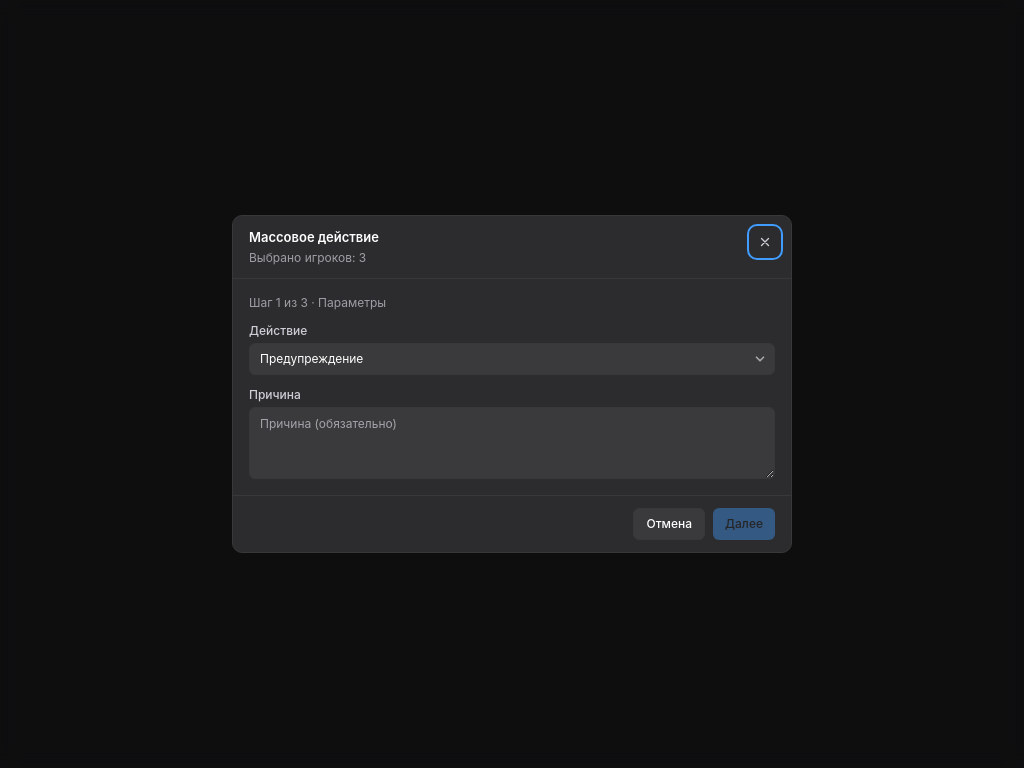
Scenario: BulkModerationModal › names the current step so the three screens do not blur into one
The width and height of the screenshot is (1024, 768).
Expected: the text "Шаг 1 из 3 · Параметры" is shown, 249,295 -> 386,310
Type "Читы" into the text box labelled "Причина" at [512, 443], box 249,407 -> 775,479
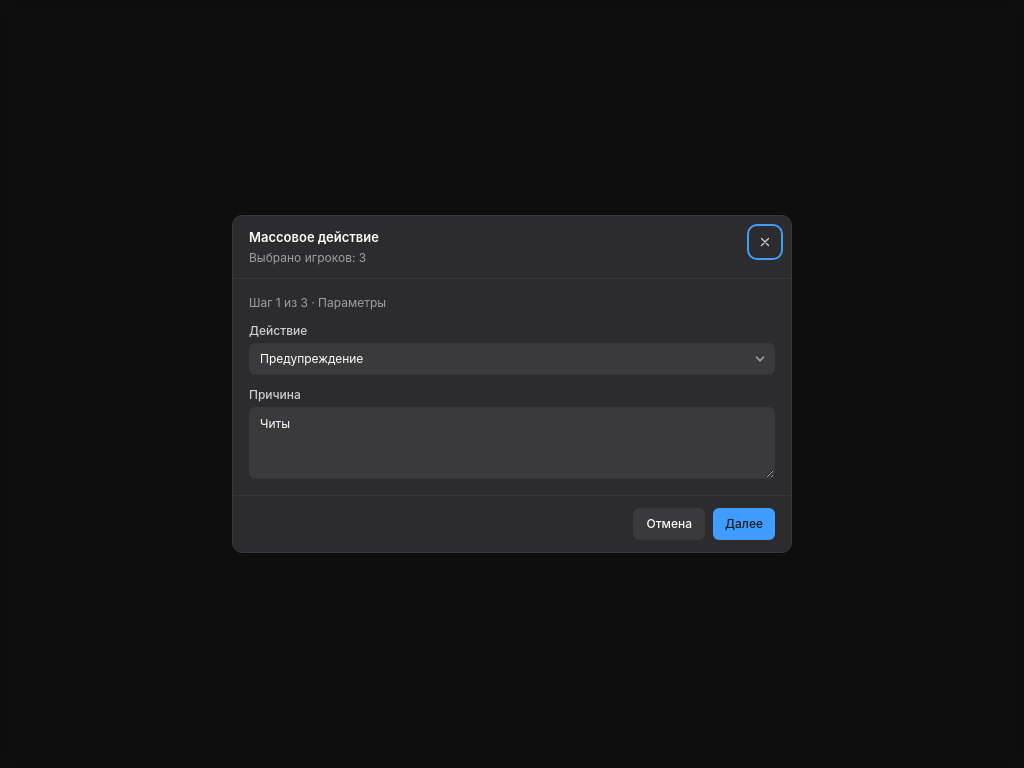
Click the button "Далее" at [744, 524], box 713,508 -> 775,540
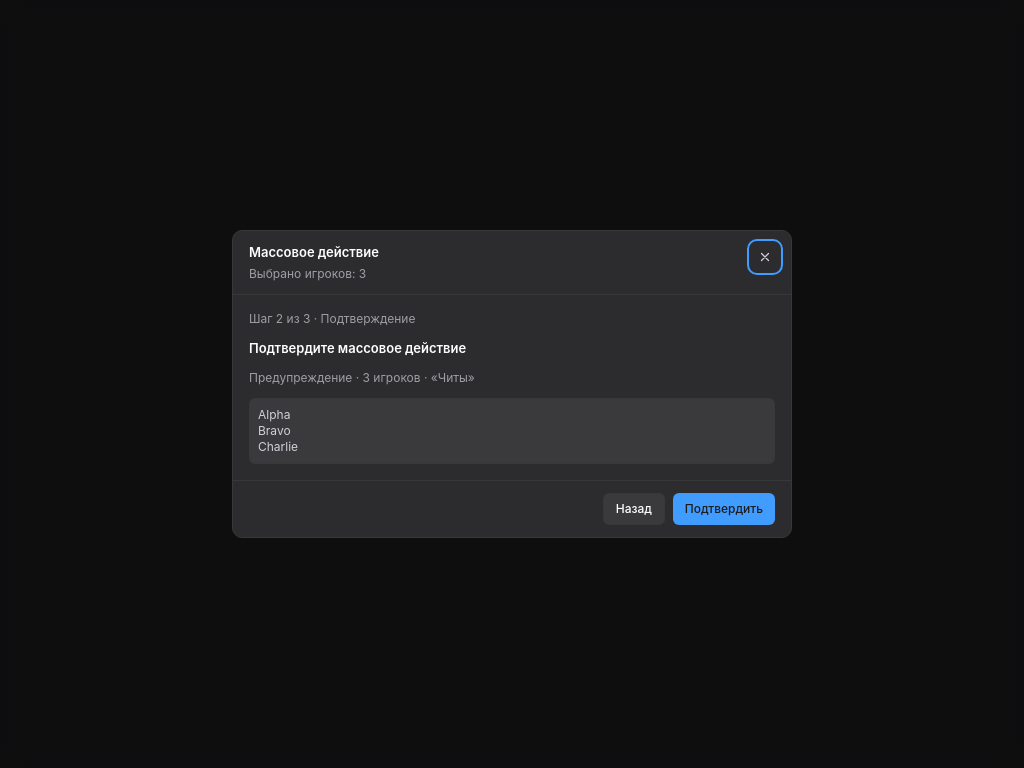
Expected: the text "Шаг 2 из 3 · Подтверждение" is shown, 249,311 -> 415,326
